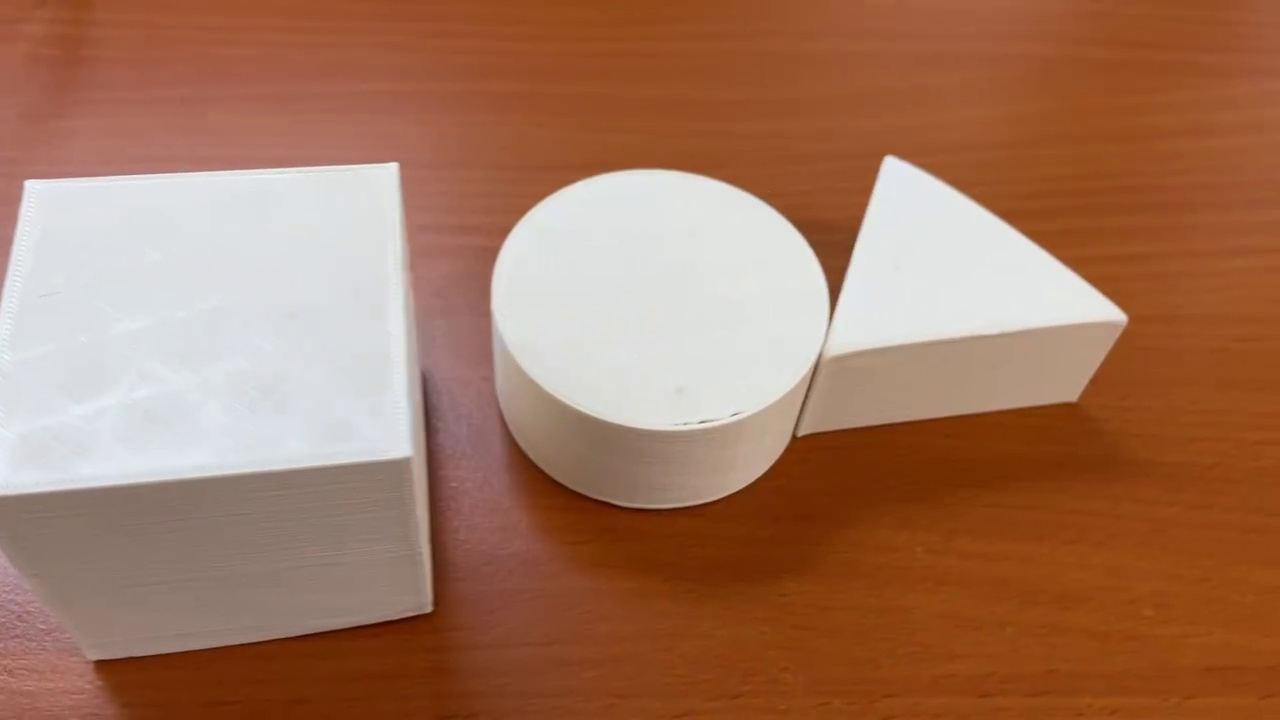Cube: (2, 162, 435, 660)
Cylinder_short: (488, 166, 830, 511)
Triangle_short: (798, 153, 1128, 444)
